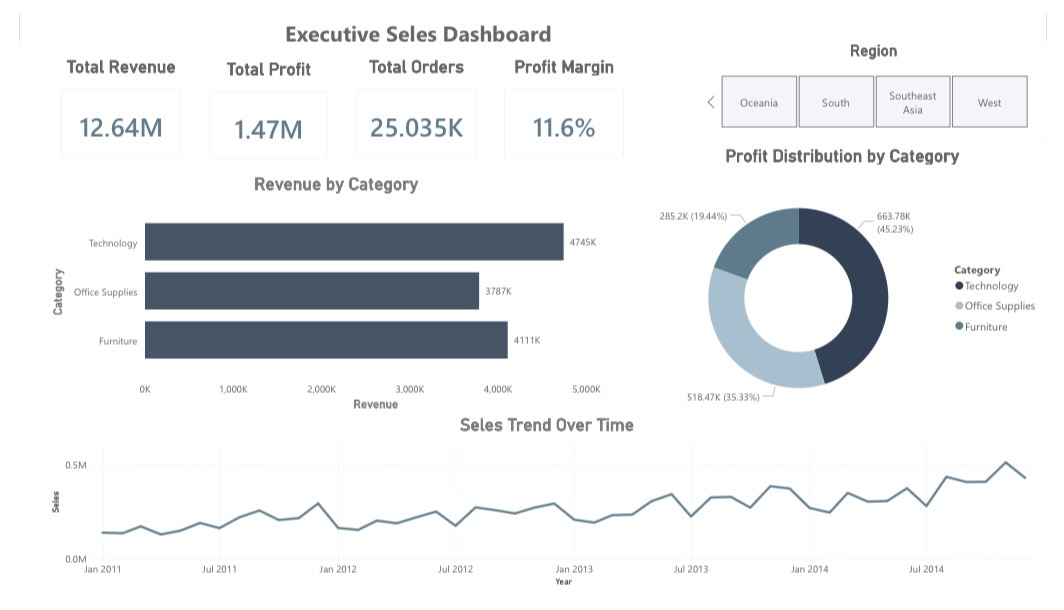

Layout of this report page (visuals, bound fields, positions):
{"tool":"powerbi","page":{"name":"Page 1","canvas":[1280,720],"ordinal":0},"visuals":[{"type":"cardVisual","title":"Total Revenue","fields":{"Data":["Sum(Global_Superstore2.Sales)"]},"box":[35.4,54.2,183.9,143.8],"z":0},{"type":"cardVisual","title":"Profit Margin","fields":{"Data":["Global_Superstore2.Profit Margin %"]},"box":[587.2,54.2,183.9,143.8],"z":1000},{"type":"cardVisual","title":"Total Profit","fields":{"Data":["Sum(Global_Superstore2.Profit)"]},"box":[219.3,56.6,183.9,143.8],"z":2000},{"type":"cardVisual","title":"Total Orders","fields":{"Data":["Count(Global_Superstore2.Order ID)"]},"box":[403.2,54.2,183.9,143.8],"z":3000},{"type":"clusteredBarChart","title":"Revenue by Category","fields":{"Category":["Global_Superstore2.Category"],"Y":["Sum(Global_Superstore2.Sales)"]},"box":[35.4,200.4,719.2,299.5],"z":4000},{"type":"lineChart","title":"Seles Trend Over Time","fields":{"Y":["Sum(Global_Superstore2.Sales)"],"Category":["Global_Superstore2.Order Date.Variation.Date Hierarchy.Year","Global_Superstore2.Order Date.Variation.Date Hierarchy.Month"]},"box":[35.4,499.9,1245.1,219.3],"z":5000},{"type":"donutChart","title":"Profit Distribution by Category","fields":{"Category":["Global_Superstore2.Category"],"Y":["Sum(Global_Superstore2.Profit)"]},"box":[771.1,165.1,509.4,356.1],"z":6000},{"type":"slicer","title":"Region","fields":{"Values":["Global_Superstore2.Region"]},"box":[848.9,35.4,431.5,113.2],"z":7000},{"type":"textbox","box":[271.2,0,452.8,56.6],"z":8000}]}

Visuals, with their boxes in screenshot pixels (x1, y1, x2, y2), scaled from the page's 1280x720 canvas onto the 1064x610 screenshot:
"Total Revenue" cardVisual: bbox(29, 46, 182, 168)
"Profit Margin" cardVisual: bbox(488, 46, 641, 168)
"Total Profit" cardVisual: bbox(182, 48, 335, 170)
"Total Orders" cardVisual: bbox(335, 46, 488, 168)
"Revenue by Category" clusteredBarChart: bbox(29, 170, 627, 424)
"Seles Trend Over Time" lineChart: bbox(29, 424, 1063, 609)
"Profit Distribution by Category" donutChart: bbox(641, 140, 1063, 442)
"Region" slicer: bbox(706, 30, 1063, 126)
textbox: bbox(225, 0, 602, 48)
